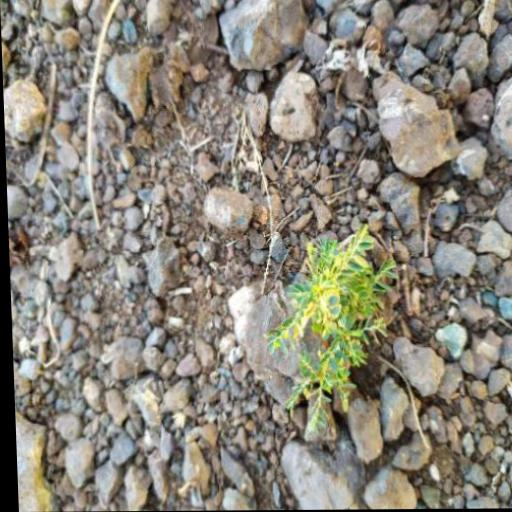weed: (254, 223, 392, 396)
